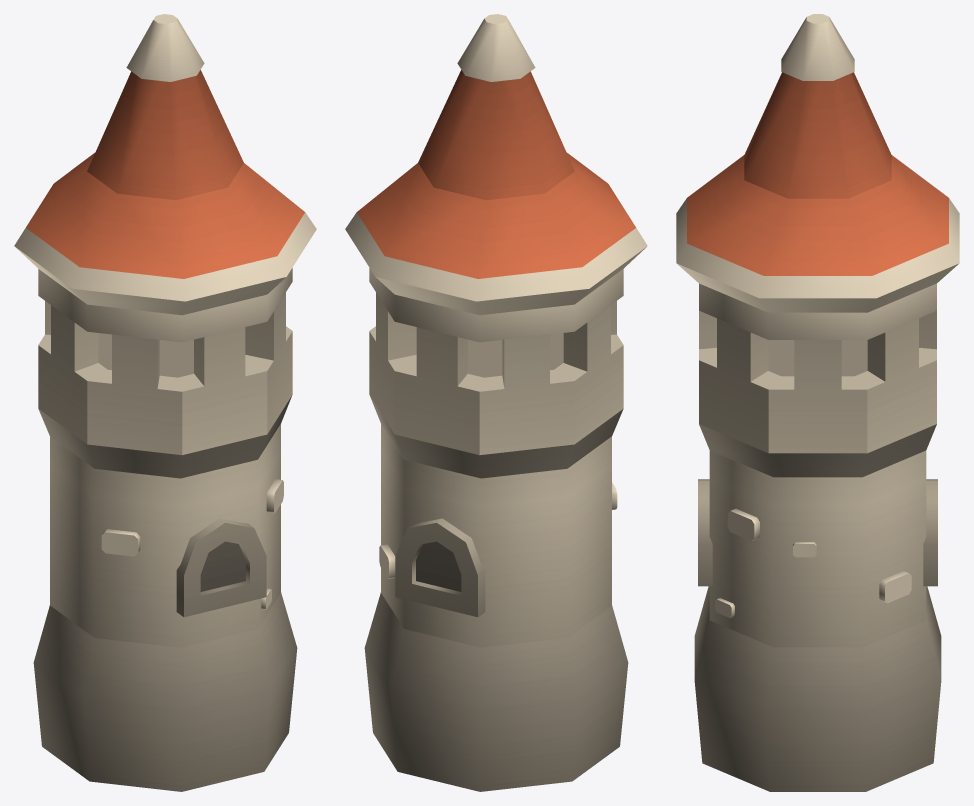
Rendered from lamplight-tower.glb.
The picture shows the model from 3 angles, left to right: view 1: azimuth 30°, elevation 25°; view 2: azimuth 150°, elevation 25°; view 3: azimuth 270°, elevation 25°; orthographic projection.
Parts seen in each view (by area): view 1: tower-complete-large; view 2: tower-complete-large; view 3: tower-complete-large.
Boxes of the visible parts, box(x1,y1,x2,y2) form: tower-complete-large: box(14, 14, 316, 791); tower-complete-large: box(345, 14, 647, 791); tower-complete-large: box(676, 14, 959, 791).
Size of the model in its own units: 3.63 by 10.22 by 3.63.
Materials: 1 (1 with a texture image).
